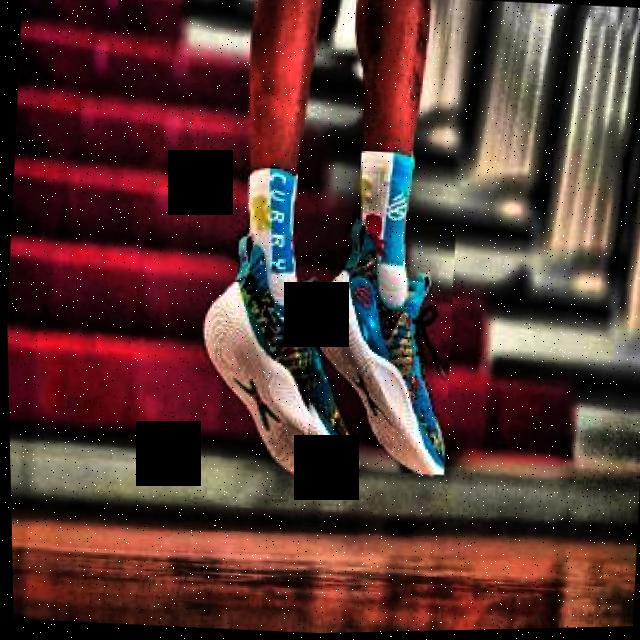shoe: (191, 229, 366, 486), (293, 215, 459, 479)
